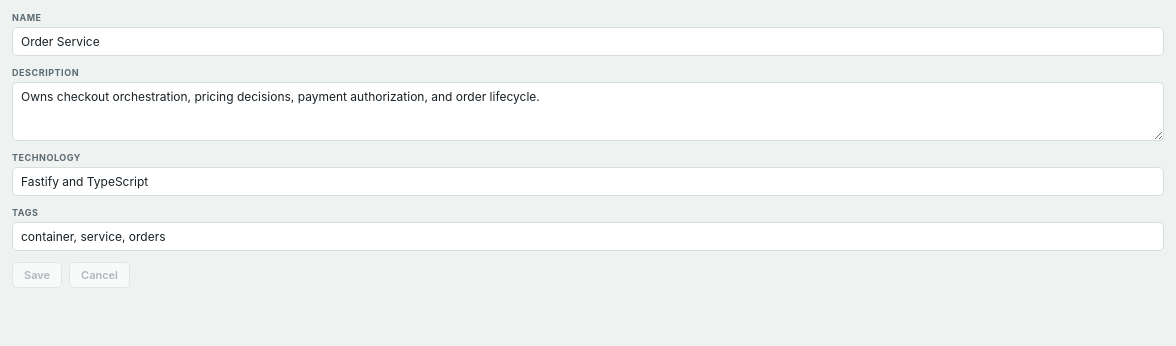
Test case: ElementInspectorForm › shows a rejected command next to the form and keeps the typed draft
Replace the text in the field labelled "Name" with "x" at (588, 42), box [12, 27, 1164, 56]
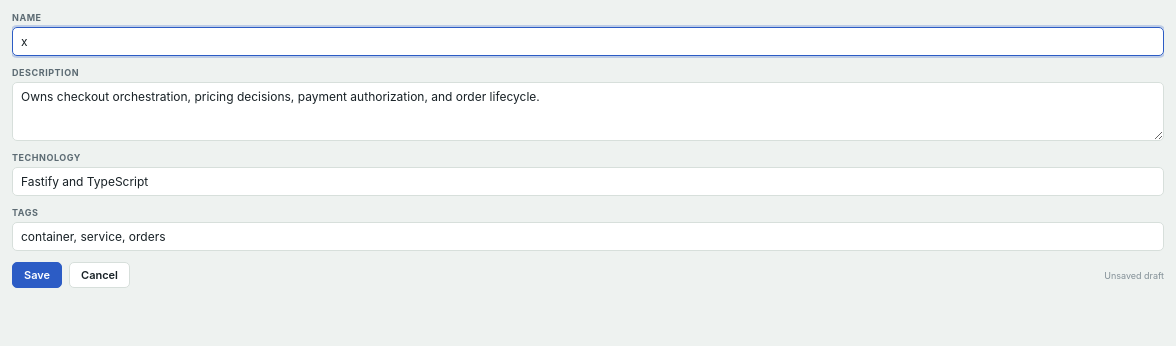
Click the button "Save".
click(37, 275)  # box [12, 262, 62, 288]
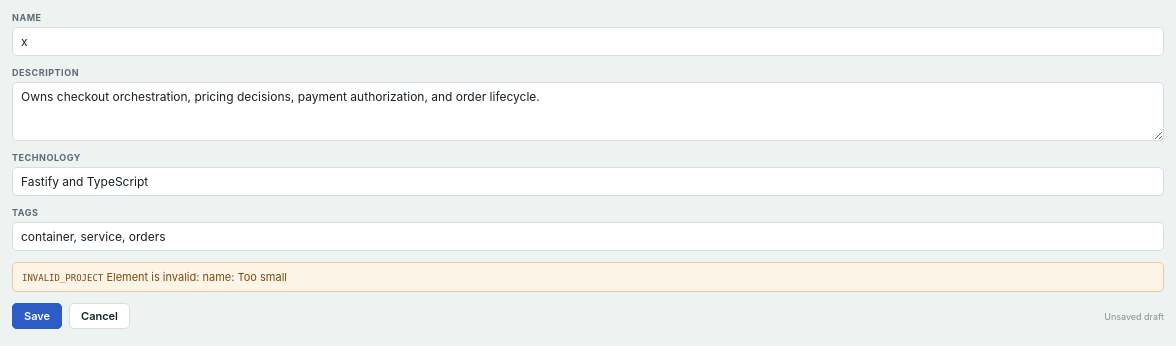
Expected: the message shows "INVALID_PROJECT", [22, 273, 103, 283]
Expected: the message shows "Too small", [106, 270, 287, 284]
